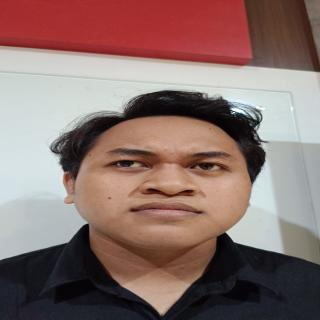Marah: (63, 114, 262, 254)
